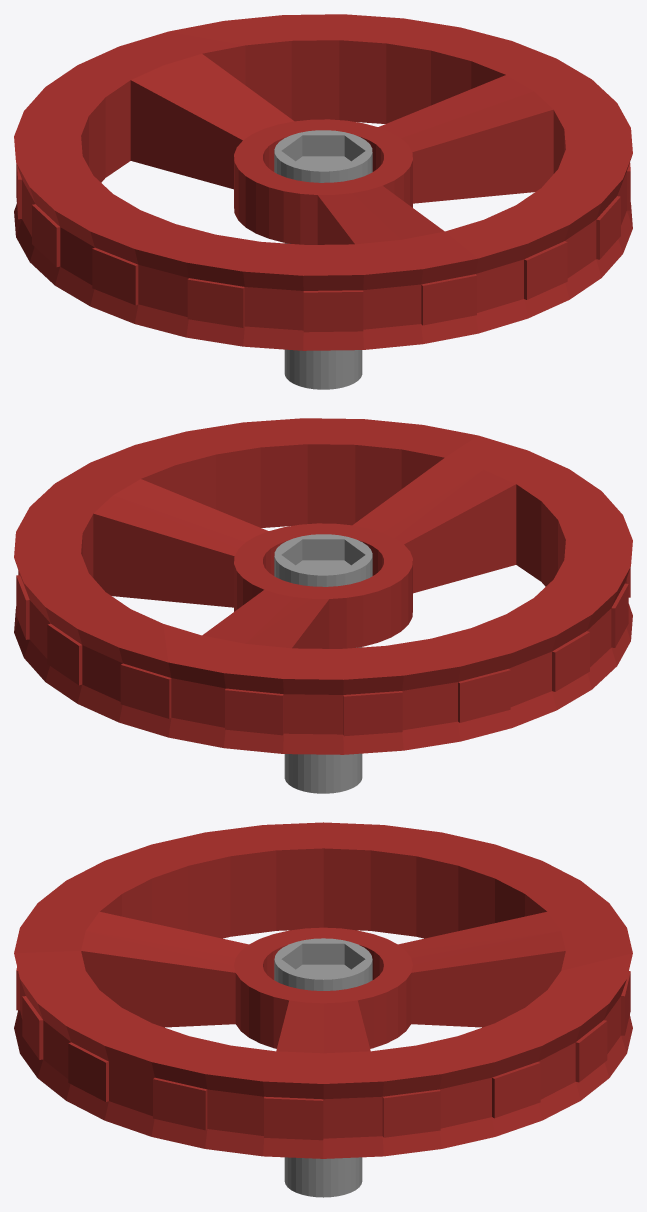
File: Valve Turn.blend.fbx
3 views of the same model, one above another, from view 1: azimuth 30°, elevation 25°; view 2: azimuth 150°, elevation 25°; view 3: azimuth 270°, elevation 25° (orthographic).
Parts seen in each view (by area): view 1: Cylinder.002, Cylinder.003, Cylinder; view 2: Cylinder.002, Cylinder.003, Cylinder; view 3: Cylinder.002, Cylinder.003, Cylinder.
Boxes of the visible parts, x1=… form: Cylinder.002: x1=14, y1=14, x2=632, y2=350; Cylinder.003: x1=274, y1=130, x2=372, y2=182; Cylinder: x1=284, y1=243, x2=362, y2=389; Cylinder.002: x1=14, y1=418, x2=632, y2=754; Cylinder.003: x1=274, y1=534, x2=372, y2=586; Cylinder: x1=284, y1=647, x2=362, y2=793; Cylinder.002: x1=14, y1=822, x2=632, y2=1158; Cylinder.003: x1=274, y1=938, x2=372, y2=990; Cylinder: x1=284, y1=1157, x2=362, y2=1197.
Bounding box in the file's own units: 171 × 70.27 × 171.
